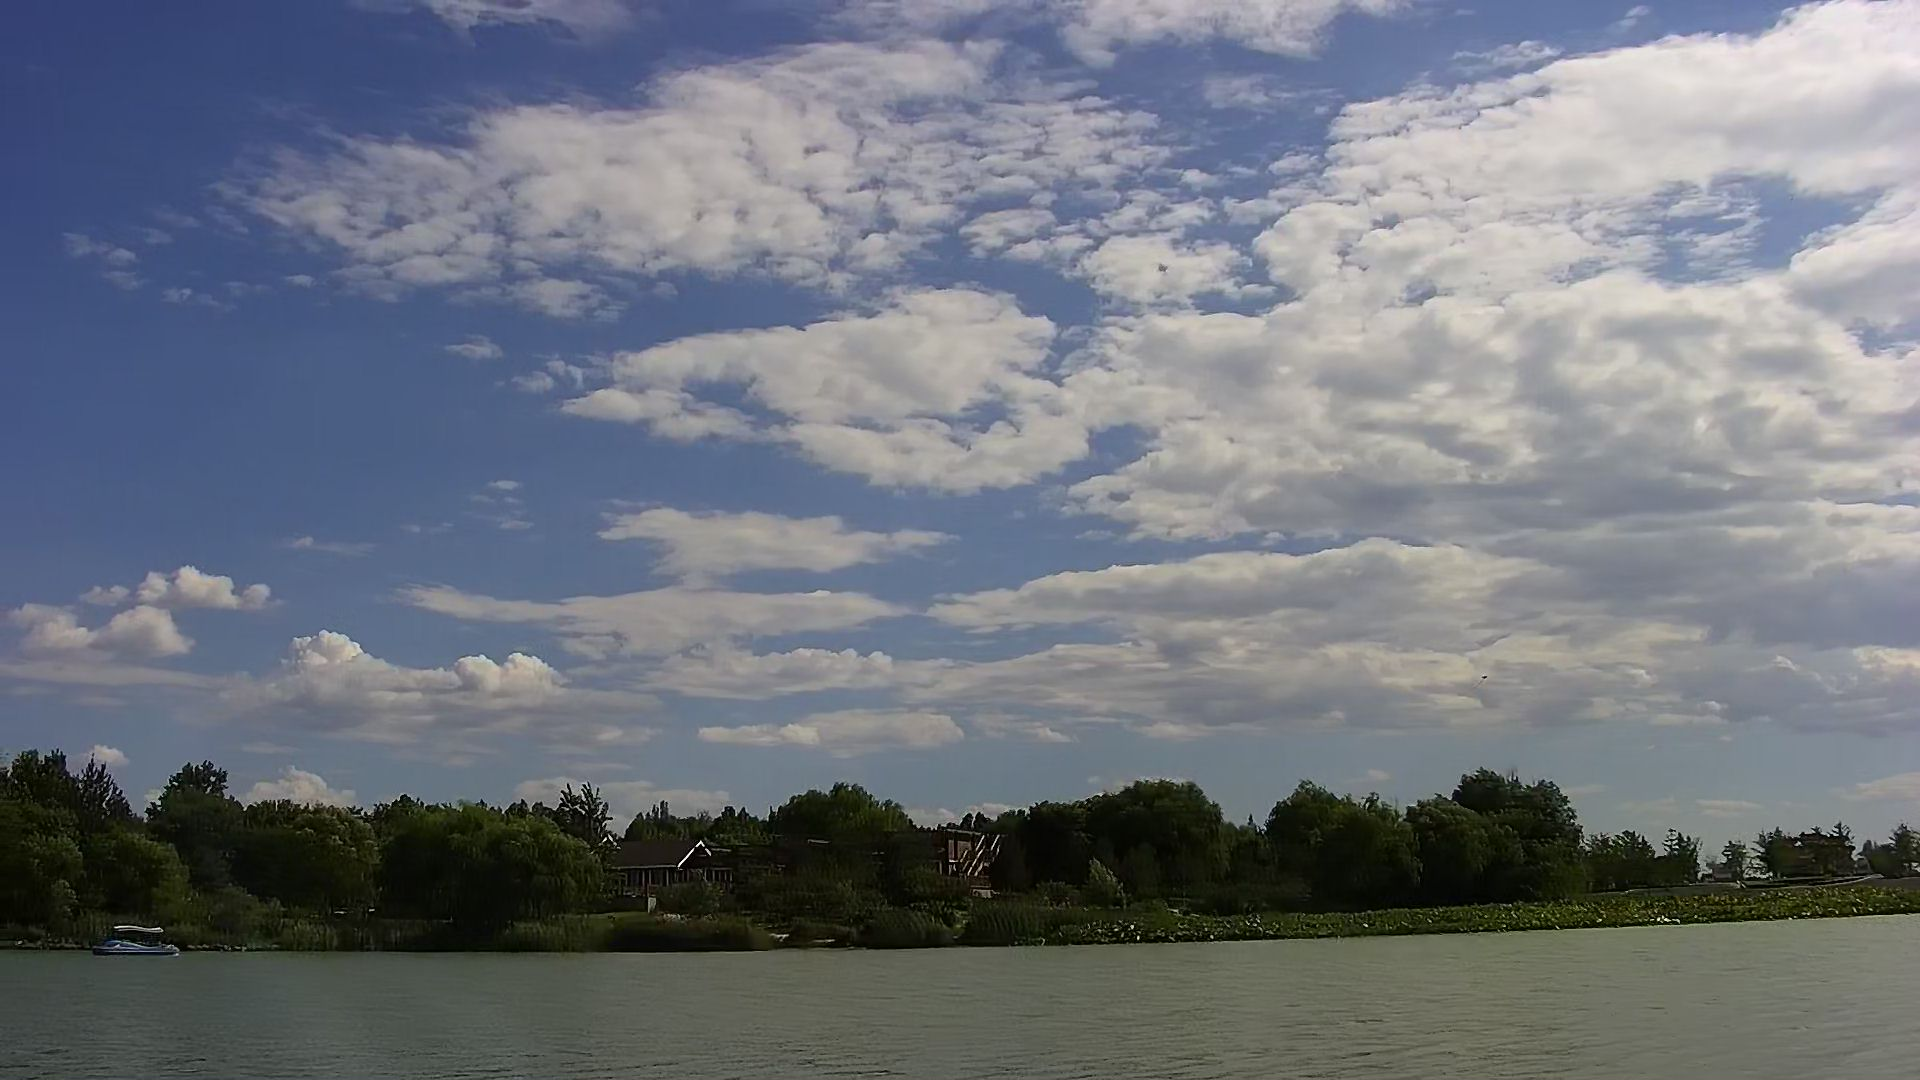boat: (88, 913, 191, 963)
